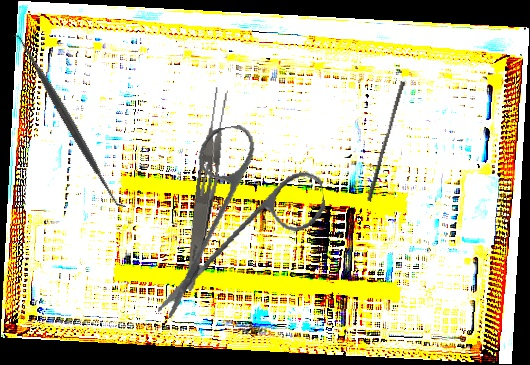Dressing Forceps: (181, 85, 233, 293)
Iris Scissors: (131, 113, 339, 321)
Pusher: (366, 80, 406, 203)
Spatula Surgical: (8, 27, 130, 216)
